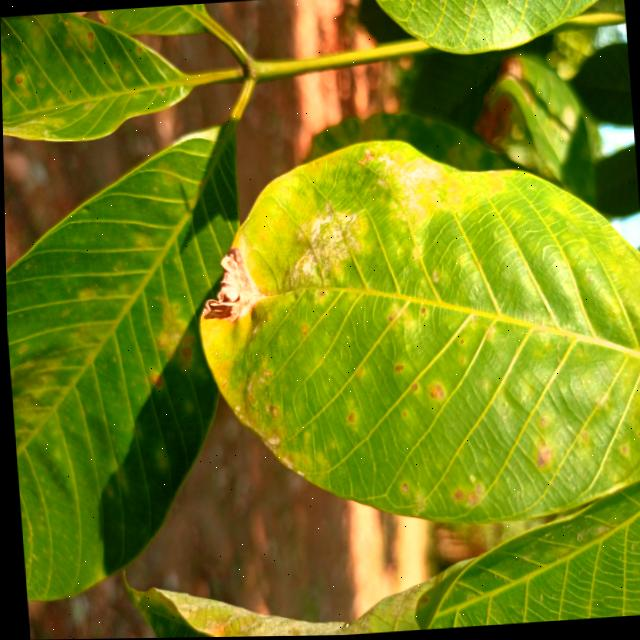Leaf-Blight: (195, 245, 267, 325), (71, 10, 91, 17)
